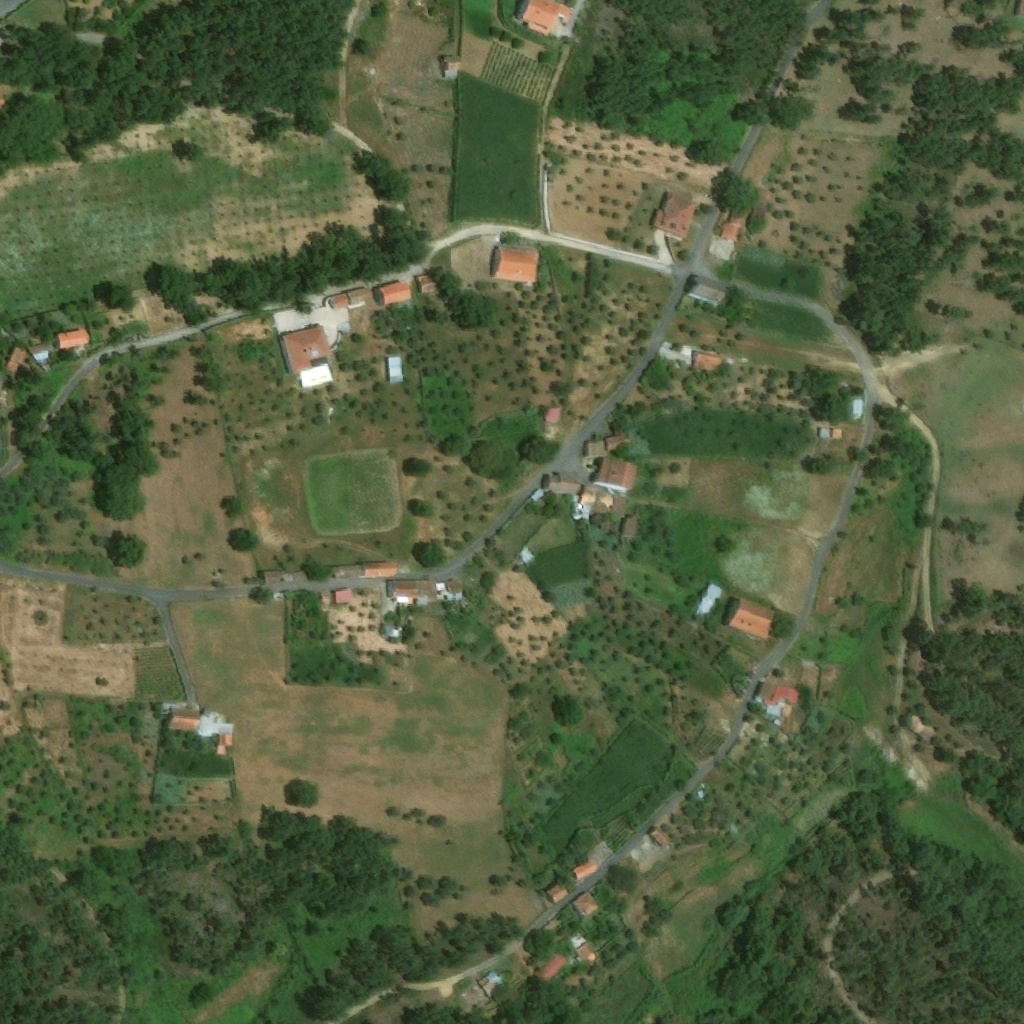0 no-damage: (279, 323, 333, 376), (262, 562, 365, 586), (650, 191, 700, 240), (516, 0, 575, 36), (729, 596, 778, 639), (594, 454, 639, 493), (494, 246, 541, 283), (764, 681, 805, 716), (200, 704, 235, 741), (691, 582, 724, 620), (479, 966, 518, 998), (391, 581, 446, 603), (534, 951, 570, 984), (721, 201, 751, 240), (377, 277, 414, 308), (691, 273, 729, 303), (166, 702, 203, 732), (541, 473, 585, 496), (580, 483, 616, 511), (5, 344, 36, 375), (573, 889, 602, 920), (58, 325, 93, 350), (571, 856, 600, 882), (416, 271, 445, 295), (577, 939, 603, 965), (693, 351, 725, 372), (362, 559, 398, 576), (547, 880, 571, 903), (606, 432, 633, 451), (442, 56, 464, 79), (517, 546, 539, 569), (347, 285, 371, 306), (754, 677, 774, 702), (328, 292, 351, 313), (651, 826, 673, 847), (334, 587, 356, 607), (386, 355, 403, 380), (850, 395, 868, 418), (621, 514, 638, 538), (28, 343, 50, 361), (586, 440, 607, 458), (217, 733, 234, 755), (383, 621, 402, 638), (447, 580, 464, 599), (545, 407, 564, 423), (532, 487, 547, 503), (781, 704, 794, 720), (601, 522, 619, 533), (0, 89, 7, 116)
4 un-classified: (1015, 0, 1023, 17)
